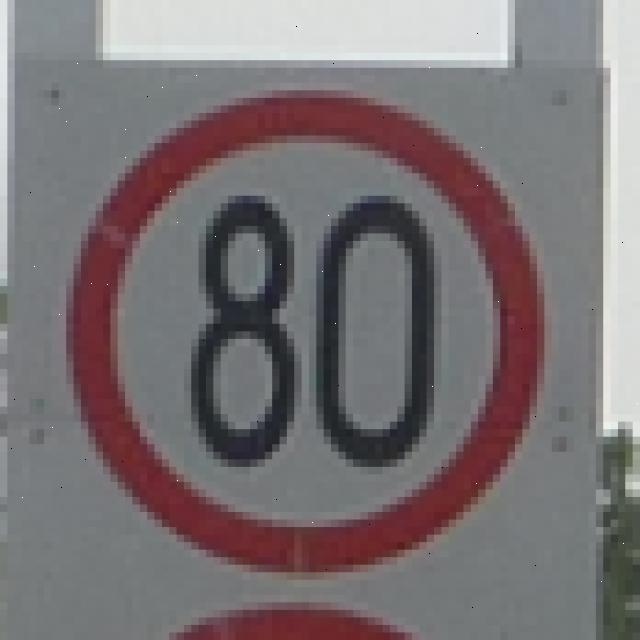speed limit 80: (67, 87, 542, 575)
